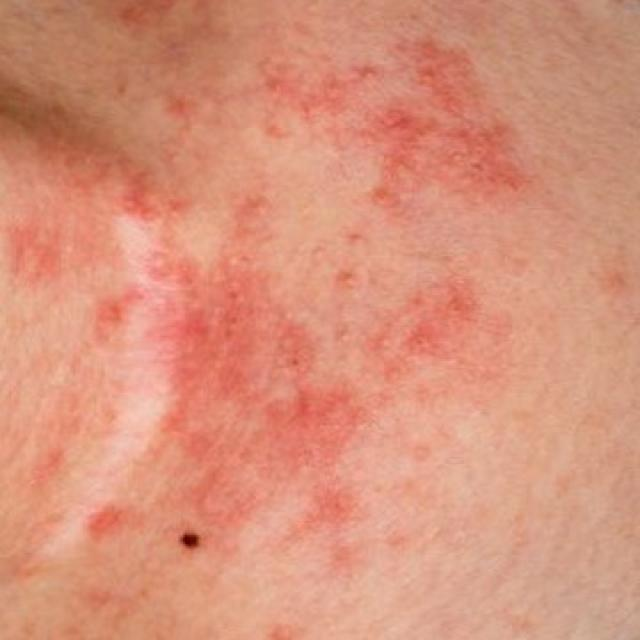AtopicDermatitis: (0, 0, 567, 626)
